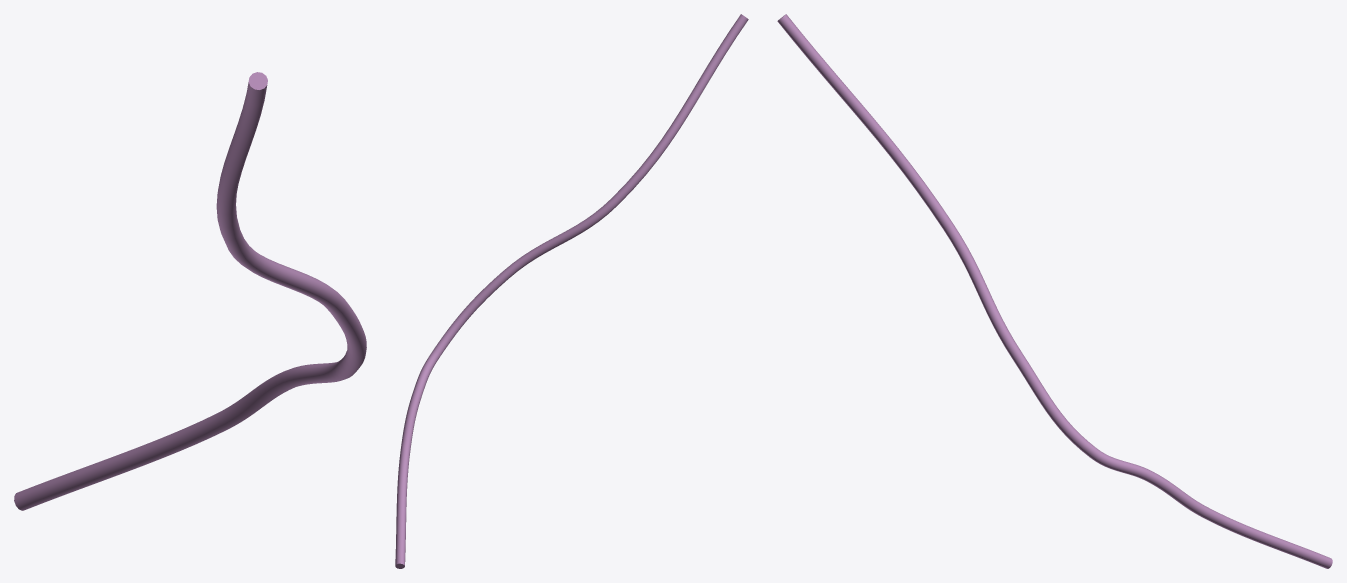
3 views of the same model, side by side, from view 1: azimuth 30°, elevation 25°; view 2: azimuth 150°, elevation 25°; view 3: azimuth 270°, elevation 25° (orthographic). The views are drawn at different scales.
Parts seen in each view (by area): view 1: 右侧鼓索; view 2: 右侧鼓索; view 3: 右侧鼓索.
Part boxes in pixels (x1,y1,x2,y2): 右侧鼓索: (14, 72, 366, 510); 右侧鼓索: (395, 14, 748, 568); 右侧鼓索: (777, 14, 1332, 568).
Bounding box in the file's own units: 0.0161 × 0.0344 × 0.0354.
